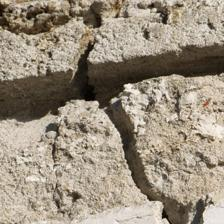Crack: (21, 0, 139, 64), (38, 25, 149, 77)
